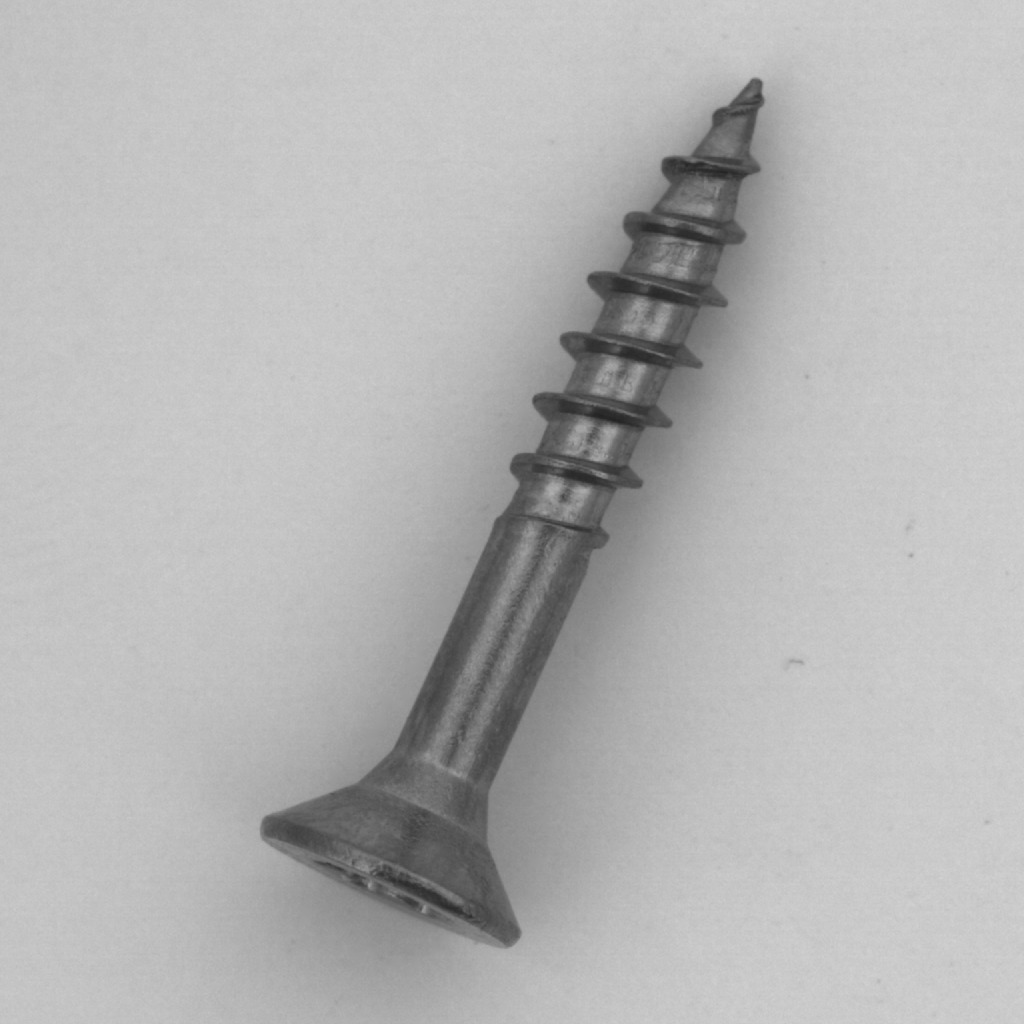good: (245, 62, 779, 960)
